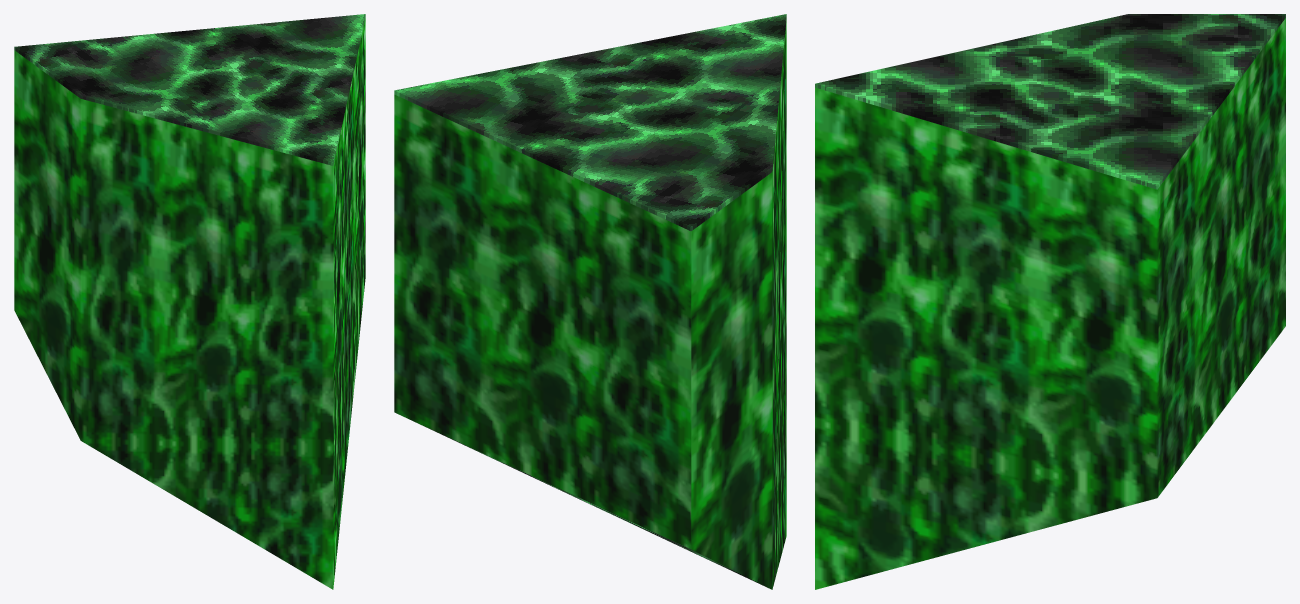
3 renders of one model, left to right at view 1: azimuth 30°, elevation 25°; view 2: azimuth 150°, elevation 25°; view 3: azimuth 270°, elevation 25°, orthographic. The views are drawn at different scales.
Visible parts, largest first — view 1: kb3_i; view 2: kb3_i; view 3: kb3_i.
Part boxes in pixels (bbox=[...]): kb3_i: bbox=[14, 14, 365, 589]; kb3_i: bbox=[394, 14, 786, 589]; kb3_i: bbox=[815, 14, 1285, 589].
Size of the model in its own units: 238 by 326 by 275.
2 materials, 2 textured.
